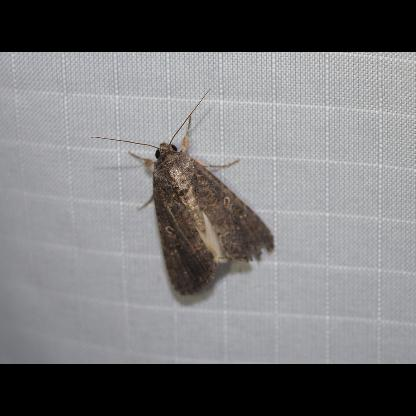Fall Armyworm Moth: (89, 86, 277, 300)
